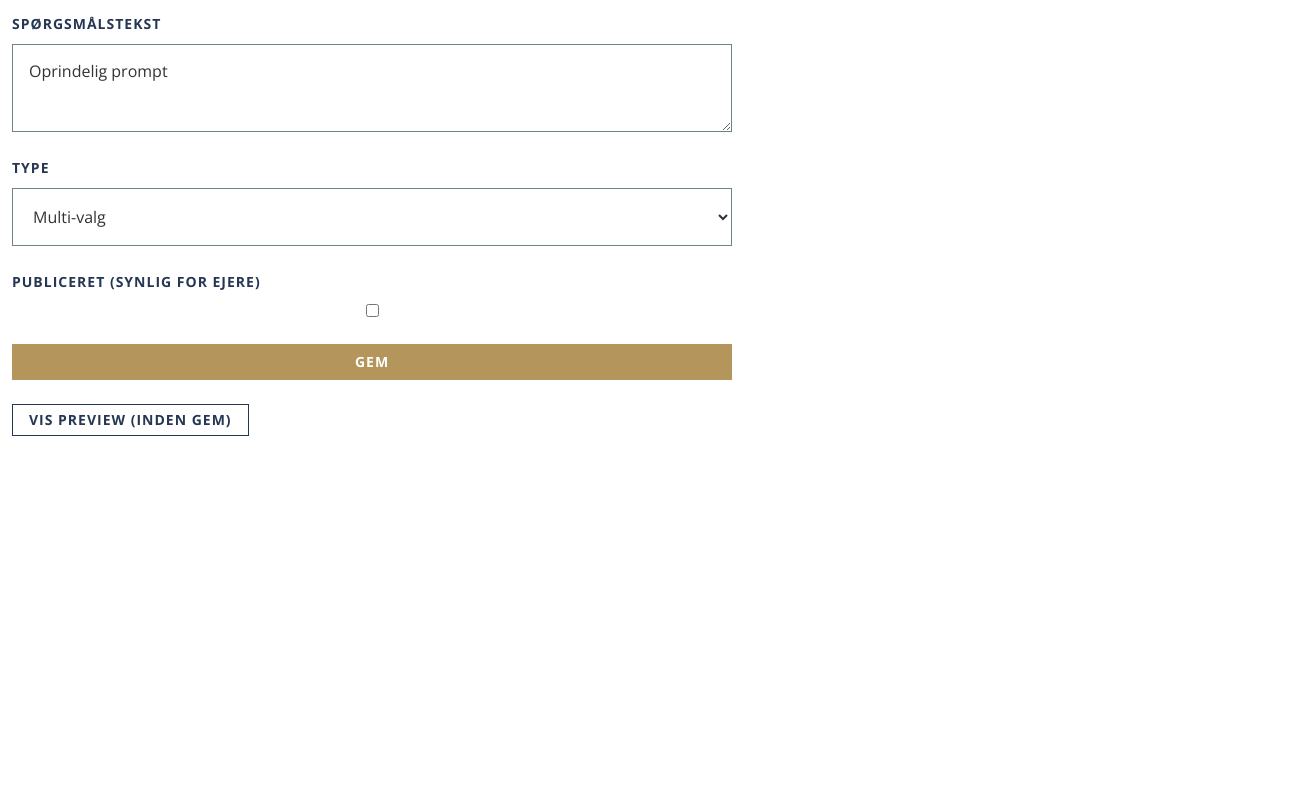
Test case: QuestionPreviewForm — preview inden gem › preview er skjult indtil toggle; viser derefter aktuel prompt live
Click the button "Vis preview (inden gem)".
click(130, 420)  # box [12,404,249,436]
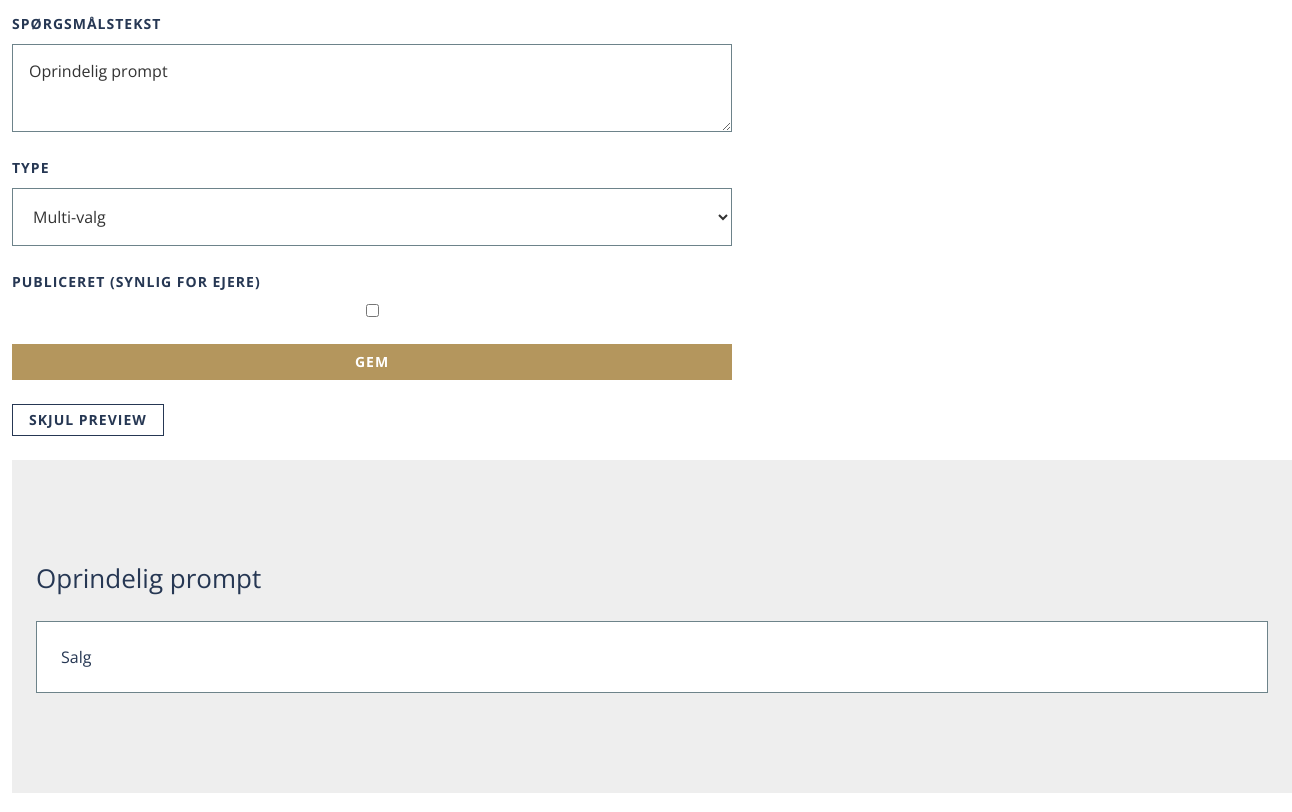
Expected: the heading "Oprindelig prompt" is shown, [36,560,261,596]
# Live-opdatering: ændr prompt → preview følger med.
Replace the text in the text box labelled "Spørgsmålstekst" with "Ny prompt" at (372, 88), box [12,44,732,132]
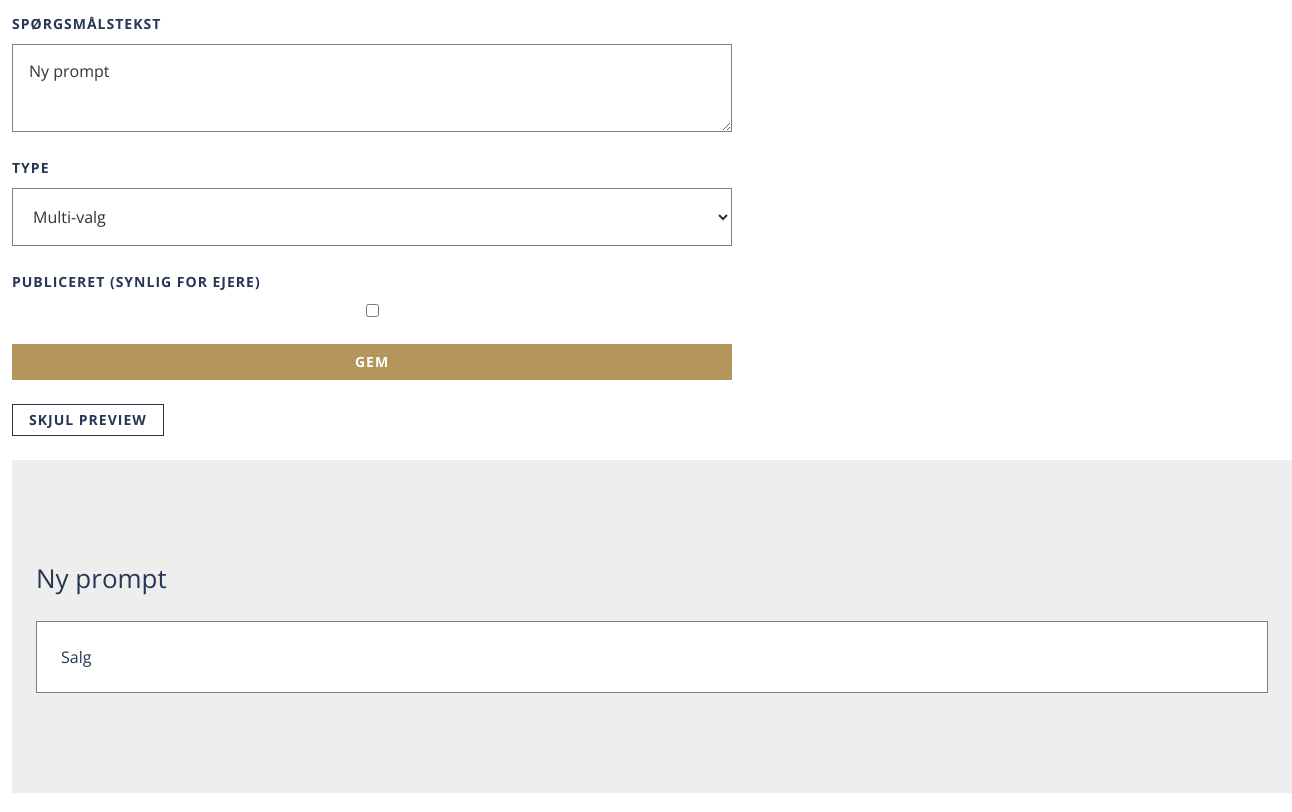
Expected: the heading "Ny prompt" is shown, [36,560,167,596]
